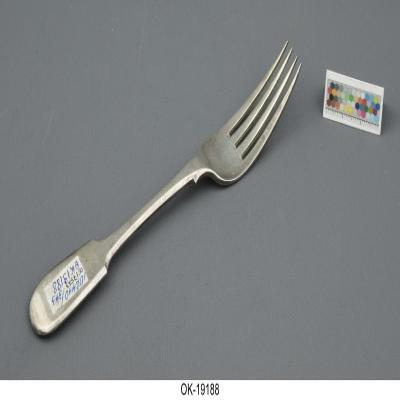dpi: (28, 42, 302, 339)
